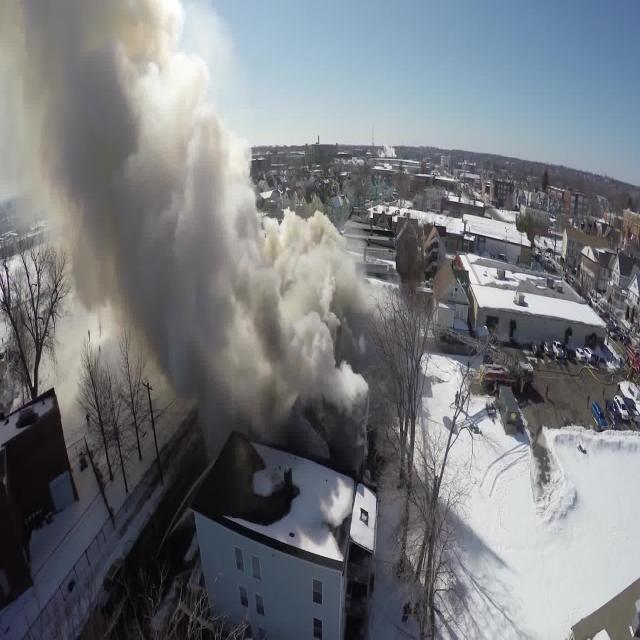Smoke: (150, 154, 350, 420), (72, 18, 254, 280)
